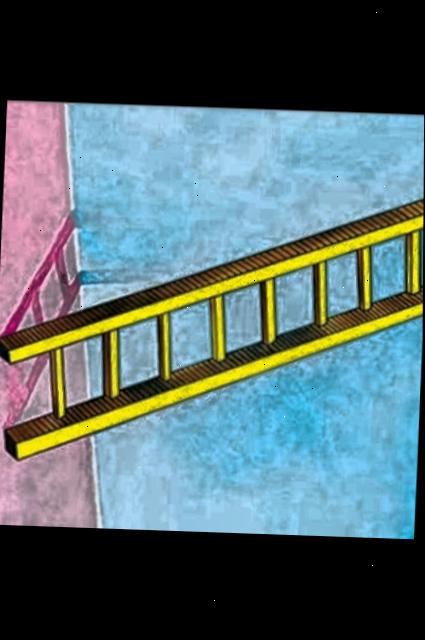La Escalera: (0, 99, 424, 539)
